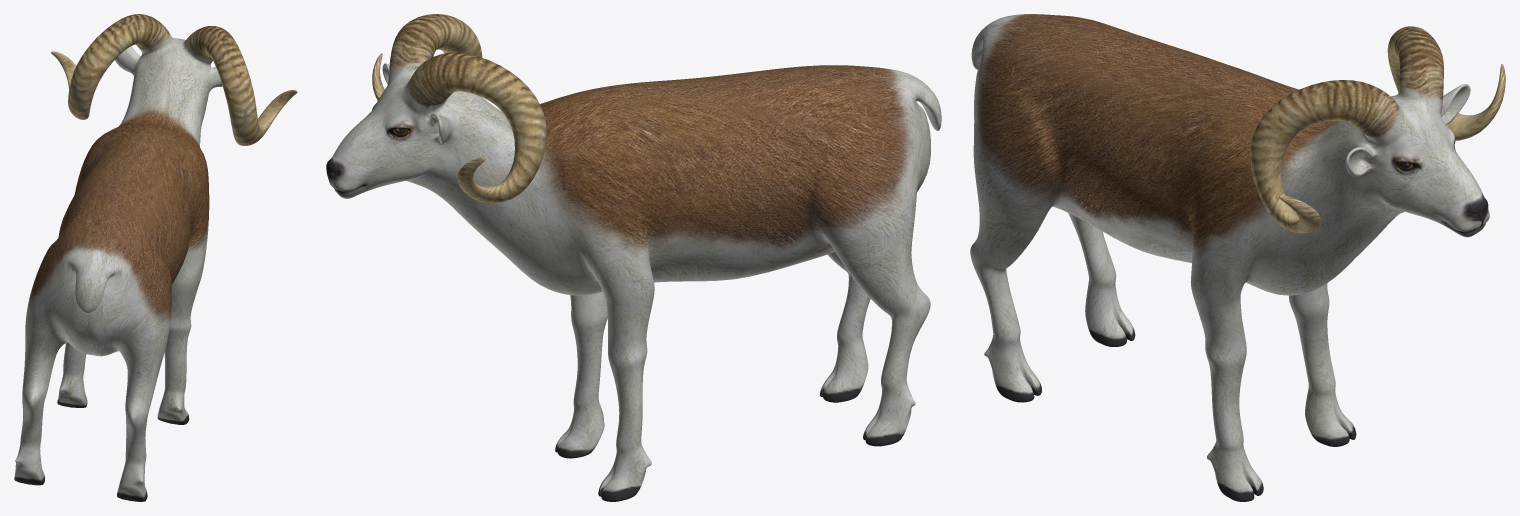
Rendered from sheep1.obj.
3 renders of one model, left to right at view 1: azimuth 30°, elevation 25°; view 2: azimuth 150°, elevation 25°; view 3: azimuth 270°, elevation 25°, orthographic. The views are drawn at different scales.
Parts seen in each view (by area): view 1: sheep.002; view 2: sheep.002; view 3: sheep.002.
Part boxes in pixels (x1,y1,x2,y2): sheep.002: [14, 14, 297, 501]; sheep.002: [326, 14, 941, 501]; sheep.002: [970, 14, 1505, 501].
Size of the model in its own units: 1.02 by 0.9774 by 1.
1 material, 1 textured.
